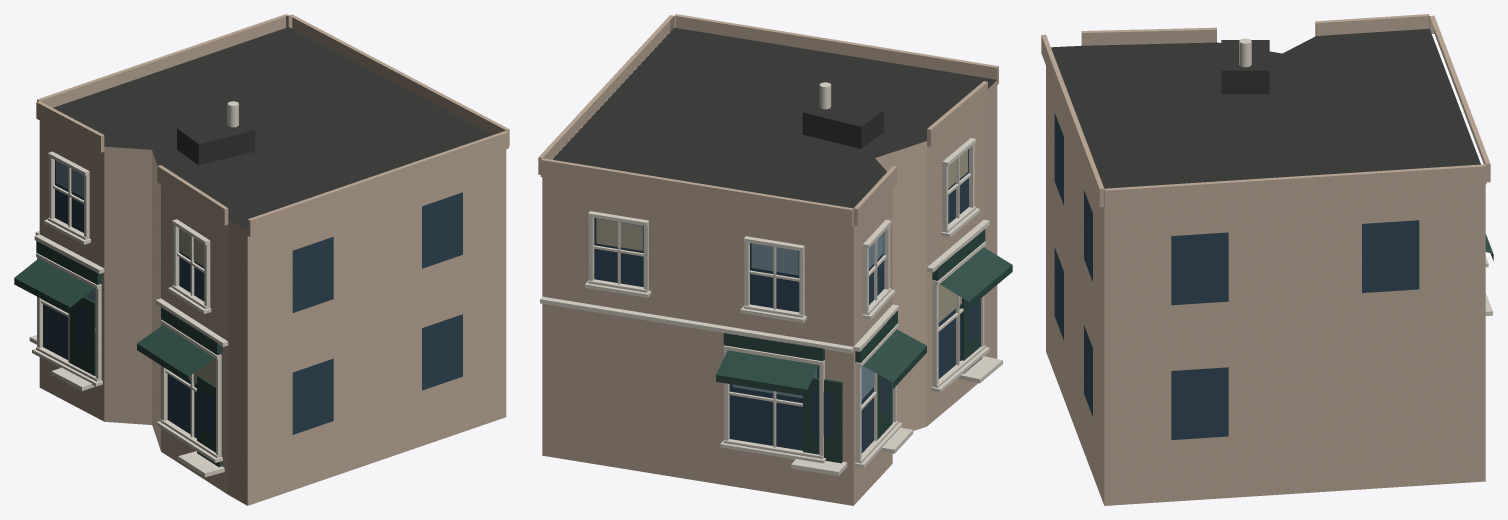
The picture shows the model from 3 angles, left to right: view 1: azimuth 30°, elevation 25°; view 2: azimuth 150°, elevation 25°; view 3: azimuth 270°, elevation 25°; orthographic projection. The views are drawn at different scales.
Visible parts, largest first — view 1: Footprint 0 / surface 2, Footprint 0 / surface 1, Inset glazing, Facade bay volumes, Cornices and window frames, Storefronts and doors, Inferred rooftop service enclosure / surface 5, Inferred rooftop service enclosure / surface 3, Interior blind variation, Sky reflection panels; view 2: Footprint 0 / surface 2, Footprint 0 / surface 1, Cornices and window frames, Facade bay volumes, Storefronts and doors, Inset glazing, Sky reflection panels, Interior blind variation, Inferred rooftop service enclosure / surface 6, Inferred rooftop service enclosure / surface 3, Inferred rooftop service enclosure / surface 2; view 3: Footprint 0 / surface 2, Footprint 0 / surface 1, Facade bay volumes, Inset glazing, Inferred rooftop service enclosure / surface 1, Inferred rooftop service enclosure / surface 3.
Boxes of the visible parts, x1,y1,x2,y2 form: Footprint 0 / surface 2: [39, 120, 506, 505]; Footprint 0 / surface 1: [53, 27, 492, 230]; Inset glazing: [43, 160, 462, 439]; Facade bay volumes: [36, 14, 509, 236]; Cornices and window frames: [29, 151, 228, 477]; Storefronts and doors: [14, 241, 222, 467]; Inferred rooftop service enclosure / surface 5: [198, 130, 255, 165]; Inferred rooftop service enclosure / surface 3: [177, 116, 254, 143]; Interior blind variation: [180, 229, 215, 385]; Sky reflection panels: [56, 160, 215, 359]; Footprint 0 / surface 2: [542, 80, 997, 505]; Footprint 0 / surface 1: [552, 27, 996, 208]; Cornices and window frames: [540, 138, 1002, 475]; Facade bay volumes: [538, 14, 998, 227]; Storefronts and doors: [716, 229, 1012, 463]; Inset glazing: [594, 149, 978, 453]; Sky reflection panels: [596, 218, 883, 399]; Interior blind variation: [596, 149, 967, 322]; Inferred rooftop service enclosure / surface 6: [802, 112, 861, 148]; Inferred rooftop service enclosure / surface 3: [803, 97, 883, 126]; Inferred rooftop service enclosure / surface 2: [861, 110, 883, 148]; Footprint 0 / surface 2: [1046, 66, 1485, 505]; Footprint 0 / surface 1: [1051, 28, 1480, 188]; Facade bay volumes: [1041, 14, 1490, 208]; Inset glazing: [1054, 113, 1419, 439]; Inferred rooftop service enclosure / surface 1: [1221, 70, 1269, 94]; Inferred rooftop service enclosure / surface 3: [1221, 40, 1269, 70].
Size of the model in its own units: 11.3 by 9.67 by 11.26.
